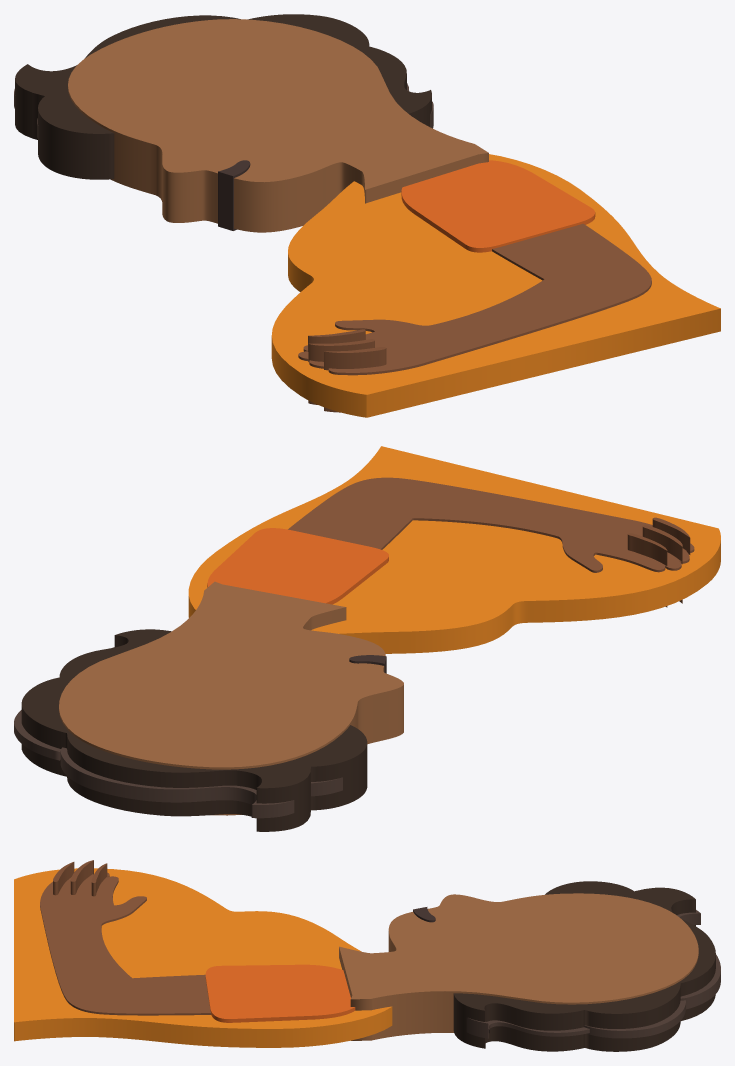
The model's file is emoji_u1fac4_1f3fe.glb.
3 views of the same model, one above another, from view 1: azimuth 30°, elevation 25°; view 2: azimuth 150°, elevation 25°; view 3: azimuth 270°, elevation 25° (orthographic). The views are drawn at different scales.
Visible parts, largest first — view 1: emoji_u1fac4_1f3fe; view 2: emoji_u1fac4_1f3fe; view 3: emoji_u1fac4_1f3fe.
Boxes of the visible parts, x1,y1,x2,y2 form: emoji_u1fac4_1f3fe: [14, 14, 720, 417]; emoji_u1fac4_1f3fe: [14, 446, 720, 831]; emoji_u1fac4_1f3fe: [14, 860, 720, 1051].
Size of the model in its own units: 0.0182 by 0.0026 by 0.0338.
